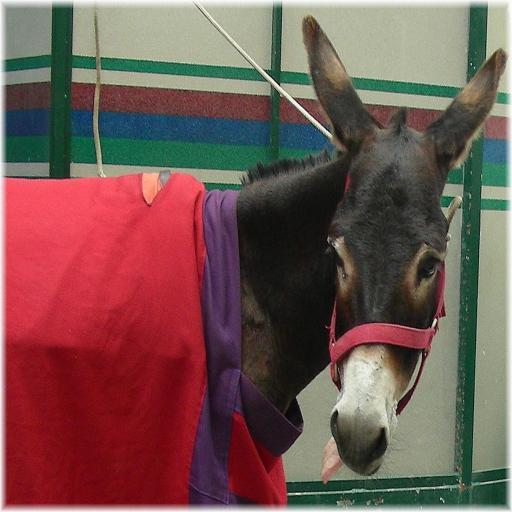Horse: (4, 16, 507, 507)
